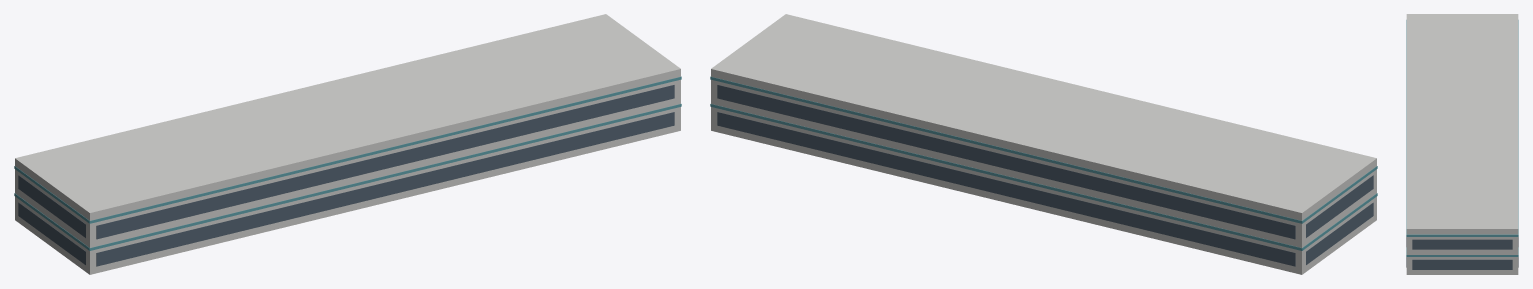
File: hosp-er.mega-v3.lod2.glb
3 renders of one model, left to right at view 1: azimuth 30°, elevation 25°; view 2: azimuth 150°, elevation 25°; view 3: azimuth 270°, elevation 25°, orthographic. The views are drawn at different scales.
Parts seen in each view (by area): view 1: hosp-er; view 2: hosp-er; view 3: hosp-er.
Part boxes in pixels (x1,y1,x2,y2): hosp-er: [14, 14, 681, 274]; hosp-er: [710, 14, 1377, 274]; hosp-er: [1406, 14, 1518, 274].
Size of the model in its own units: 91.1 by 9.1 by 20.1.
